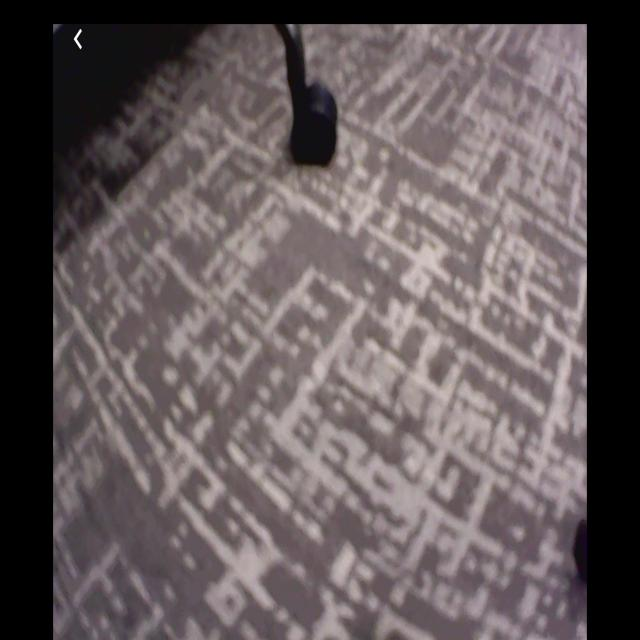ball: (573, 518, 588, 583)
